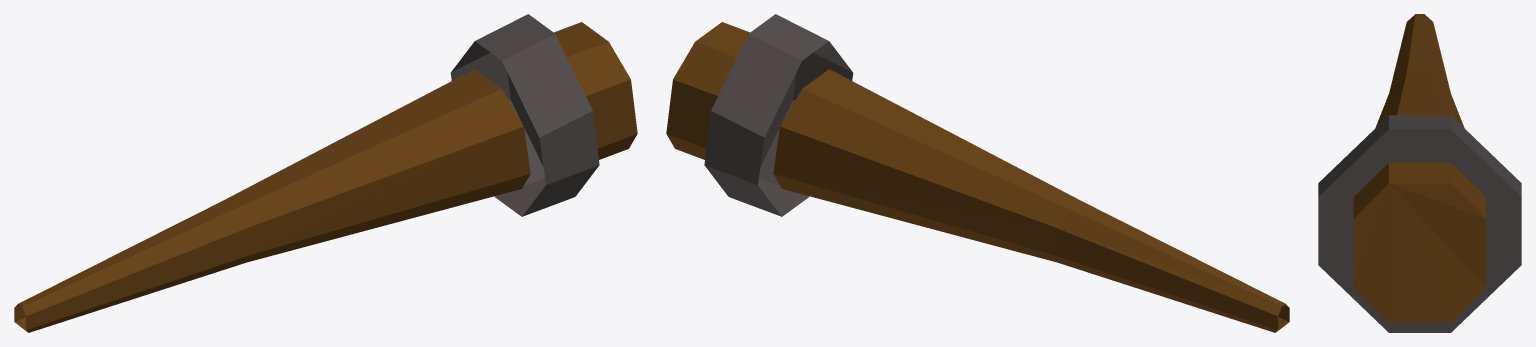
The model's file is inv_torch_2.obj.
3 renders of one model, left to right at view 1: azimuth 30°, elevation 25°; view 2: azimuth 150°, elevation 25°; view 3: azimuth 270°, elevation 25°, orthographic. The views are drawn at different scales.
Bounding box in the file's own units: 0.6953 × 0.2031 × 0.1797.
